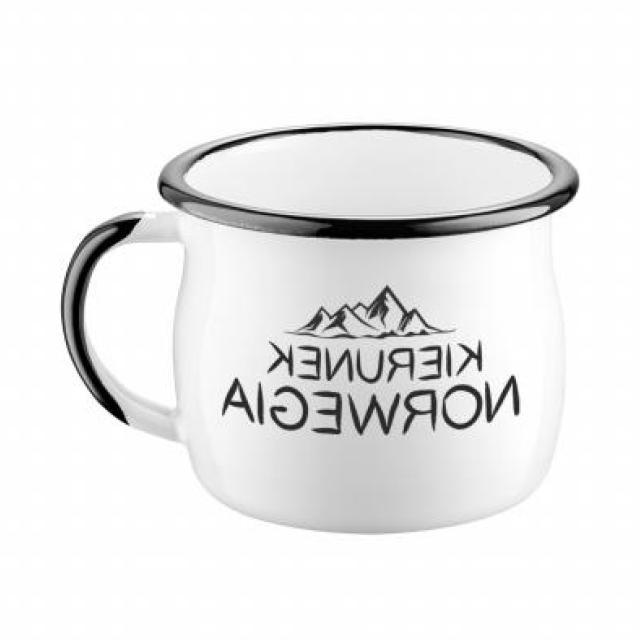cup: (55, 118, 585, 540)
